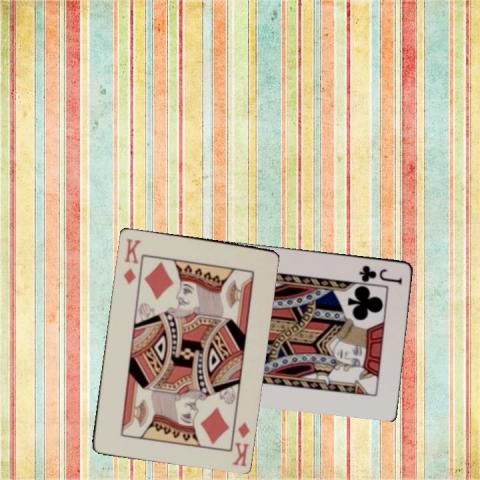Jc: (357, 262, 404, 285)
Kd: (120, 235, 143, 285), (229, 419, 251, 467)
